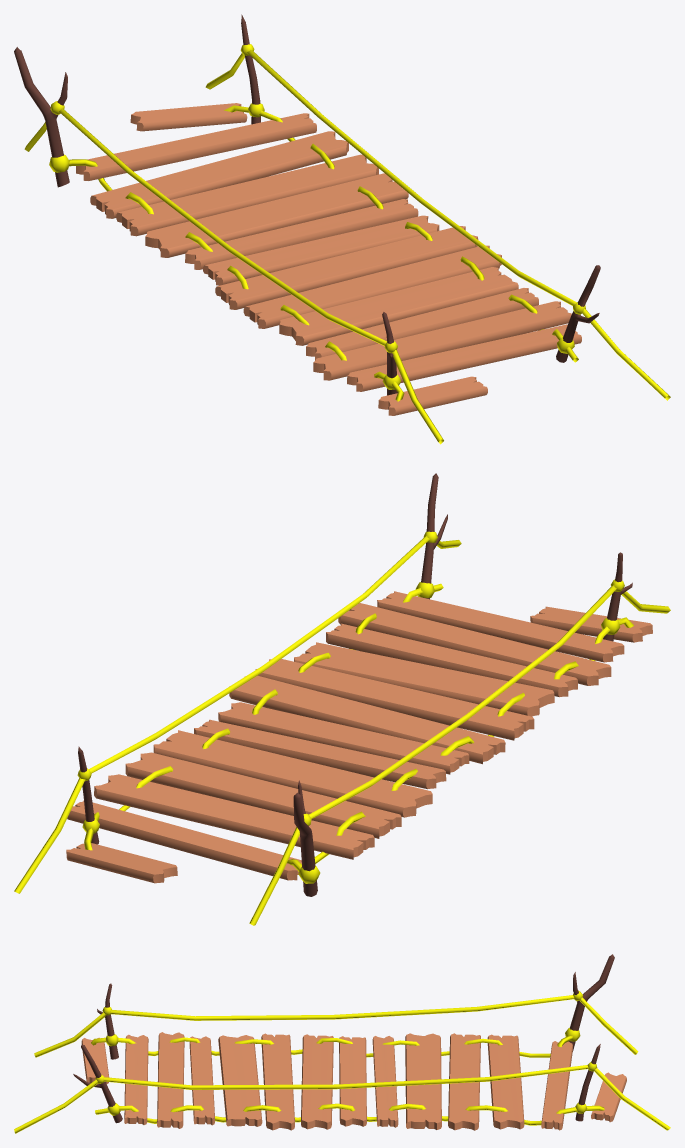
Rendered from bridge_repaired.fbx.
3 renders of one model, top to bottom at view 1: azimuth 30°, elevation 25°; view 2: azimuth 150°, elevation 25°; view 3: azimuth 270°, elevation 25°, orthographic. The views are drawn at different scales.
Parts seen in each view (by area): view 1: bridge_planks, bridge_string, bridge_sticks; view 2: bridge_planks, bridge_string, bridge_sticks; view 3: bridge_planks, bridge_string, bridge_sticks.
Part boxes in pixels (<box>): bridge_planks: <box>76,103,581,415</box>; bridge_string: <box>24,44,670,444</box>; bridge_sticks: <box>14,14,600,395</box>; bridge_planks: <box>66,591,652,883</box>; bridge_string: <box>14,531,670,925</box>; bridge_sticks: <box>78,473,632,896</box>; bridge_planks: <box>81,1032,626,1130</box>; bridge_string: <box>14,990,670,1133</box>; bridge_sticks: <box>73,954,614,1123</box>.
Size of the model in its own units: 258 by 760 by 119.
